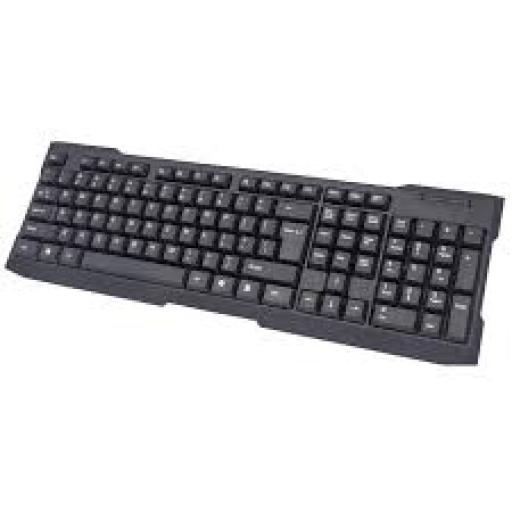keyboard: (5, 141, 501, 362)
